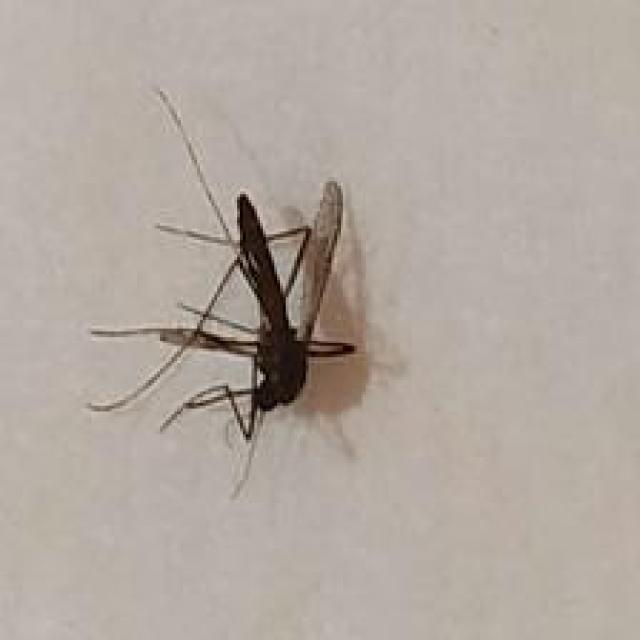Aedes albopictus: (84, 84, 359, 499)
